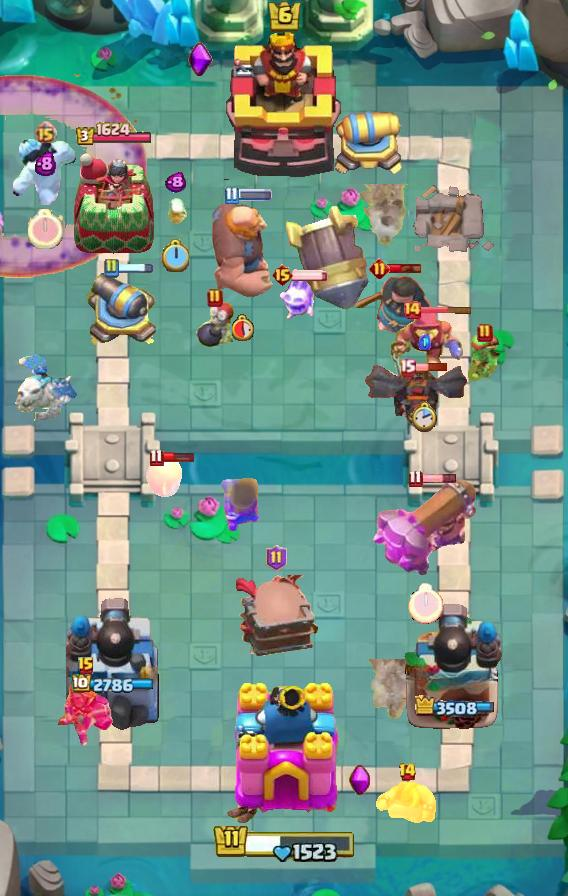archer-evolution: (365, 363, 469, 427)
balloon: (209, 198, 277, 300)
bomb-tower: (220, 477, 260, 533)
clock: (212, 820, 356, 862)
dart-goblin: (233, 575, 318, 657)
electro-spirit: (36, 152, 57, 177), (165, 171, 186, 193), (419, 334, 431, 350)
elixir: (408, 583, 444, 624), (28, 209, 64, 249), (161, 239, 189, 272), (412, 401, 438, 433), (232, 314, 255, 341)
emote: (419, 305, 473, 315), (291, 269, 329, 281), (118, 262, 155, 274), (236, 189, 272, 201), (387, 262, 423, 274), (420, 472, 457, 483), (161, 451, 194, 463), (412, 362, 447, 372)
fireball: (385, 310, 465, 384)
fisherman: (356, 183, 410, 248), (364, 659, 417, 725)
furnace: (371, 476, 479, 576)
giant-snowball: (468, 333, 502, 381)
goblin-giant: (376, 777, 438, 825)
heal-spirit: (162, 196, 188, 228)
hog: (145, 455, 185, 499)
ice-golem: (194, 302, 236, 352)
king-tower: (224, 29, 344, 181), (222, 680, 346, 826)
mini-pekka: (14, 353, 82, 427)
mirror: (276, 271, 316, 321)
queen-tower: (71, 152, 157, 256)
rage: (13, 135, 77, 205)
rocket: (1, 74, 148, 278)
royal-hog: (351, 273, 433, 345)
royal-recruit: (329, 95, 403, 179), (87, 267, 159, 351)
selected: (75, 122, 153, 147), (414, 694, 495, 717), (72, 673, 156, 695)
skeleton-king-skill: (187, 41, 213, 77), (349, 764, 371, 798)
tesla-evolution: (57, 675, 115, 749)
text: (271, 263, 294, 287), (265, 545, 286, 571), (35, 120, 58, 143), (369, 257, 390, 279), (402, 300, 422, 320), (398, 762, 418, 782), (77, 656, 95, 676), (399, 358, 417, 377), (103, 258, 119, 278), (207, 288, 223, 308), (477, 323, 493, 343), (225, 187, 240, 205), (408, 469, 423, 487), (149, 449, 163, 468)
tower-bar: (66, 595, 162, 731), (403, 601, 503, 731)
x-bow: (285, 204, 369, 311)
